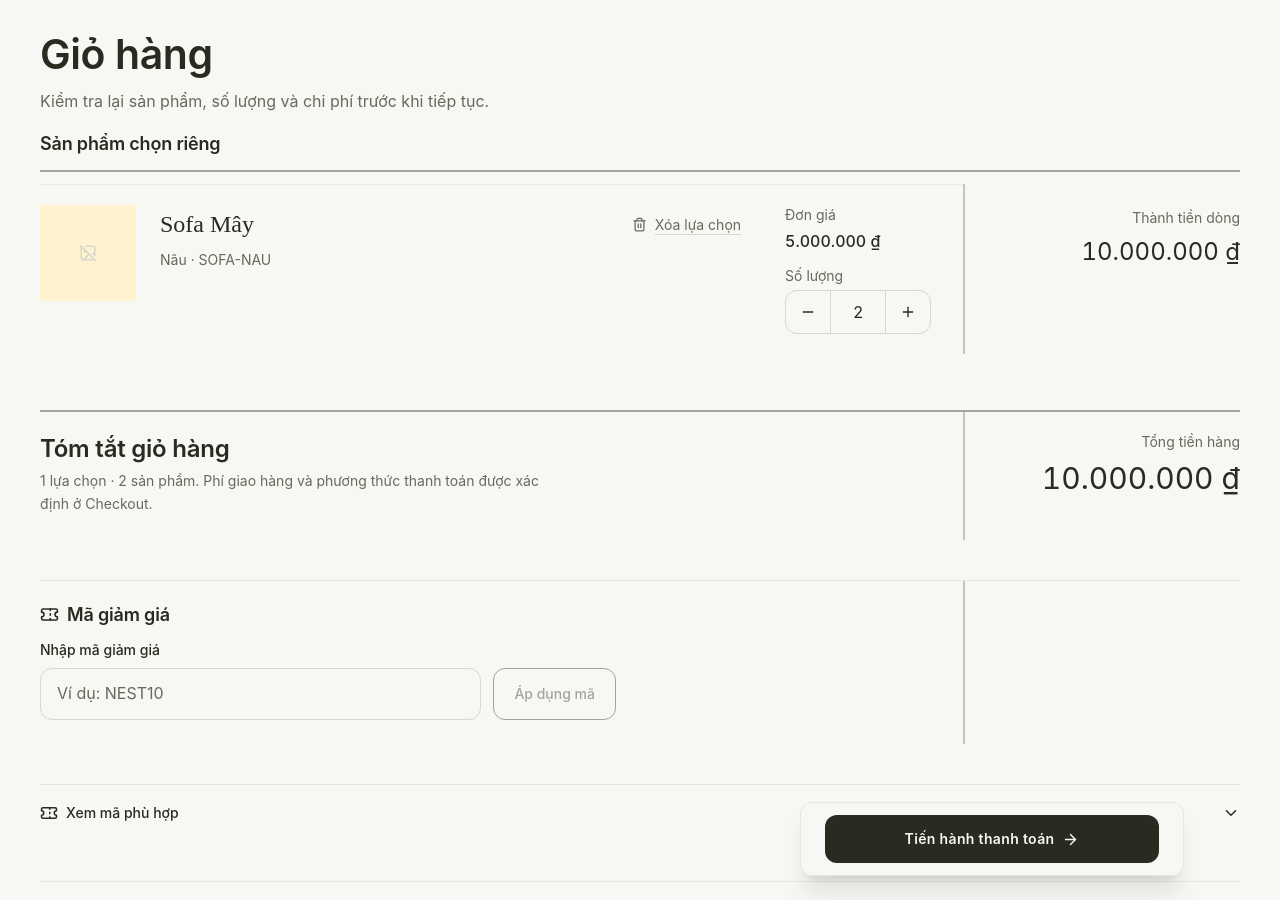
CartPage › keeps the item and exposes an item-local removal failure
Check: the link "Sofa Mây" is shown, box [160,208,254,241]
Step 1. Click the button with aria-label "Xóa Sofa Mây" → (686, 225), box [628,205,745,245]
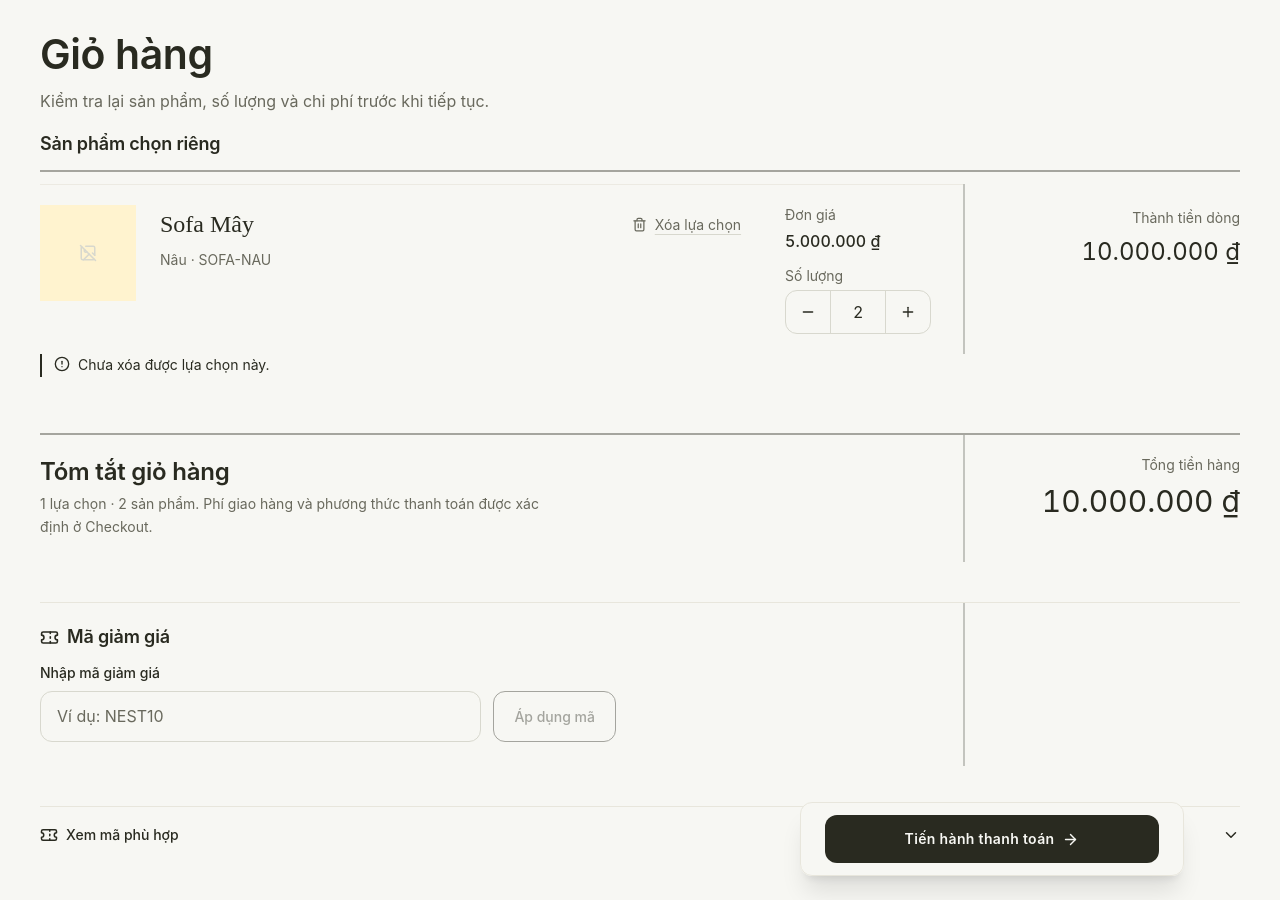
Check: the link "Sofa Mây" is shown, box [160,208,254,241]
Check: the message reads "Chưa xóa được lựa chọn này.", box [78,356,270,373]
